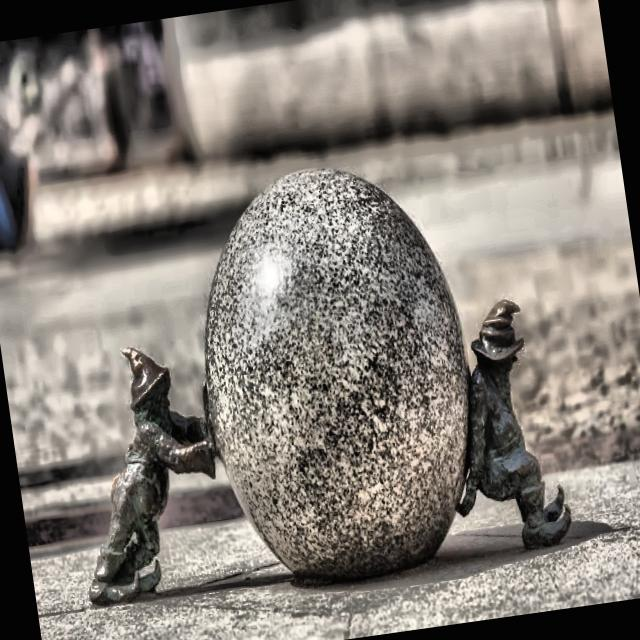Syzyfki: (27, 127, 589, 635)
